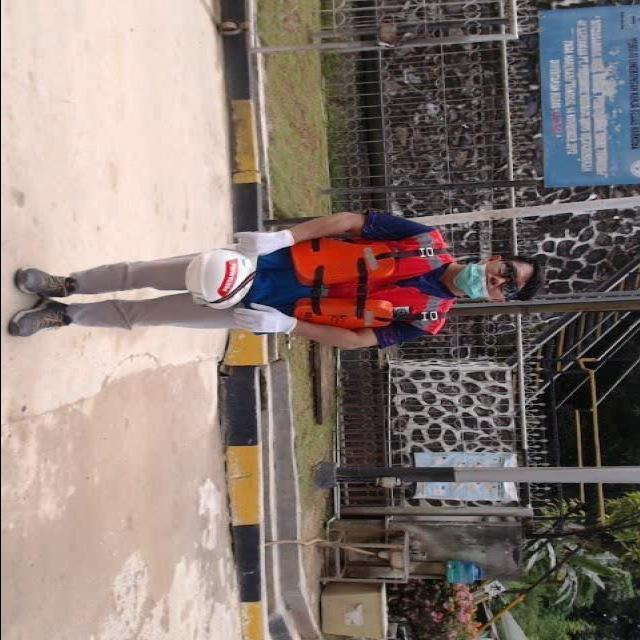helmet: (179, 230, 261, 316)
jacket: (276, 209, 468, 341)
